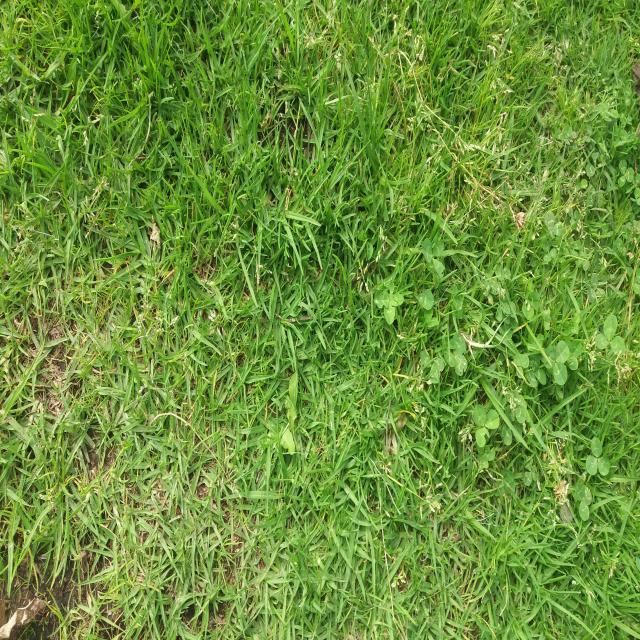Four Leaf Clover: (371, 270, 412, 358), (373, 281, 404, 325)
